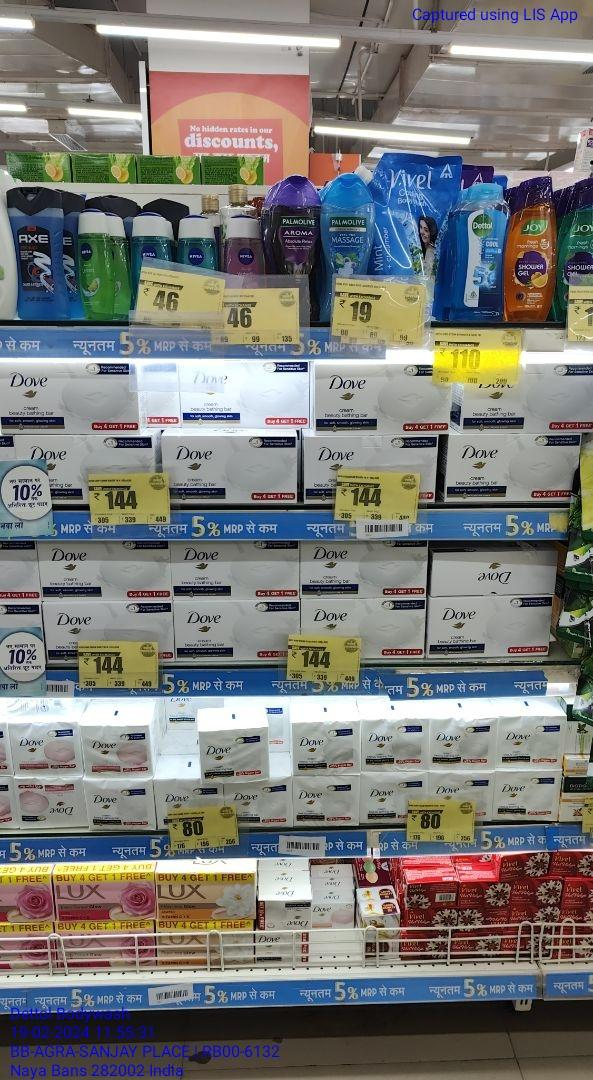Dettol_Bodywash_Cool: (453, 182, 508, 320)
Joy_Shower_Gel_Mandarin_and_Lemongrass_250ML: (511, 174, 556, 320)
Nivea_Shower_Gel_Lemon_and_Oil_250ML: (79, 207, 114, 323)
